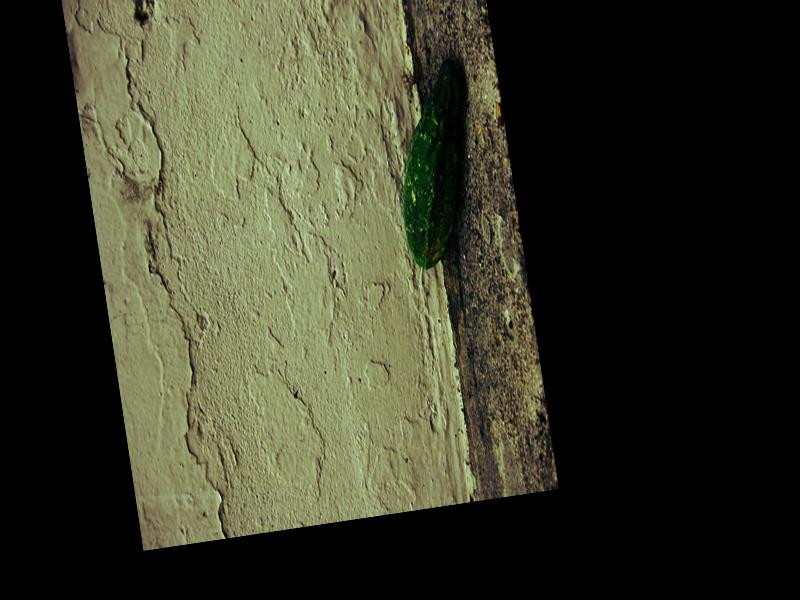Cucumber: (381, 60, 489, 271)
